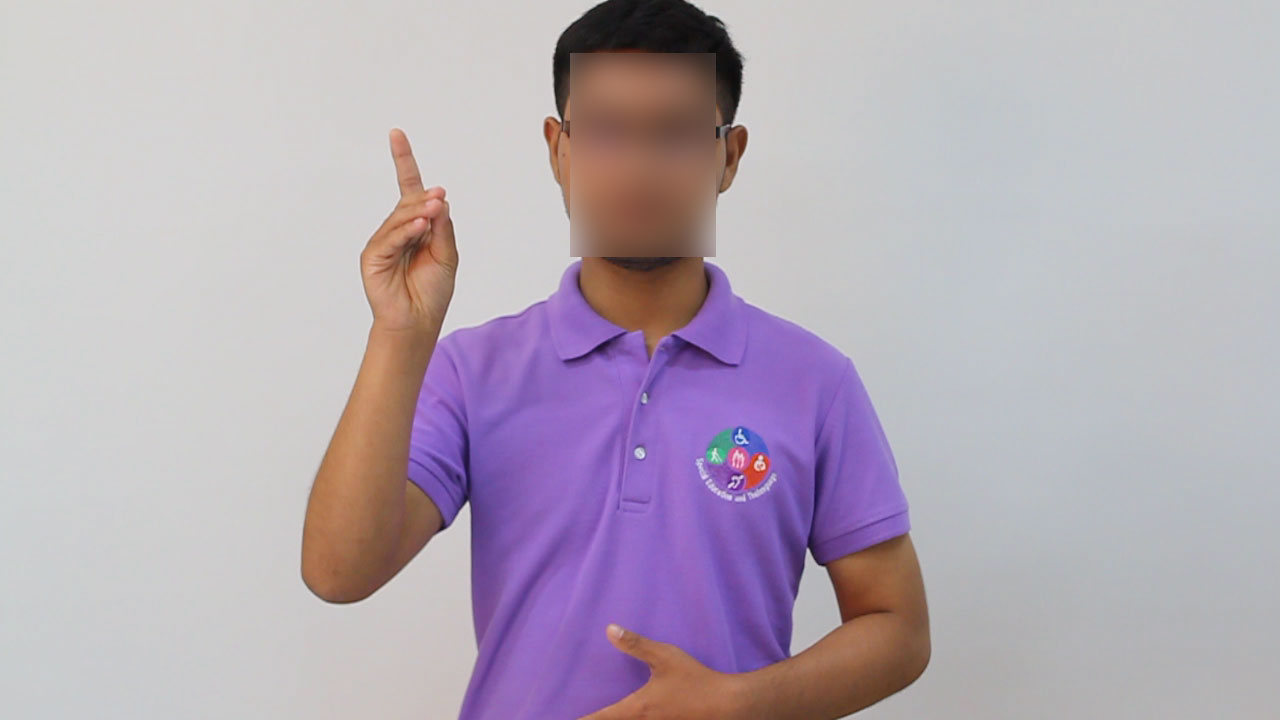dor: (355, 121, 464, 347)
